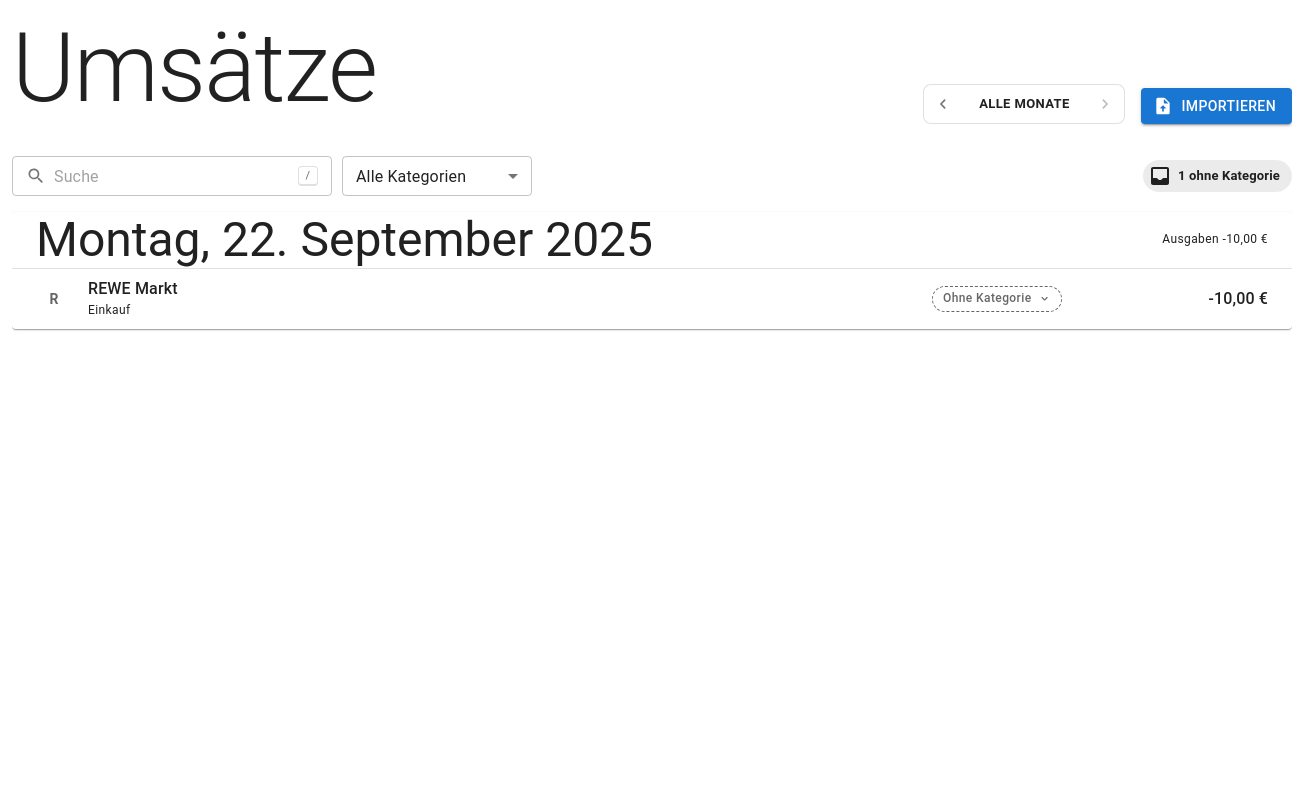
Test: TransactionsPage, „Immer so“ › says only that the rule was added when there is nothing left for it to sort
Check: the dropdown named "Kategorie filtern" is shown, box top-left (356, 166), bottom-right (466, 186)
Click the button with aria-label "Kategorie: Ohne Kategorie" at (997, 299), box top-left (932, 286), bottom-right (1062, 312)
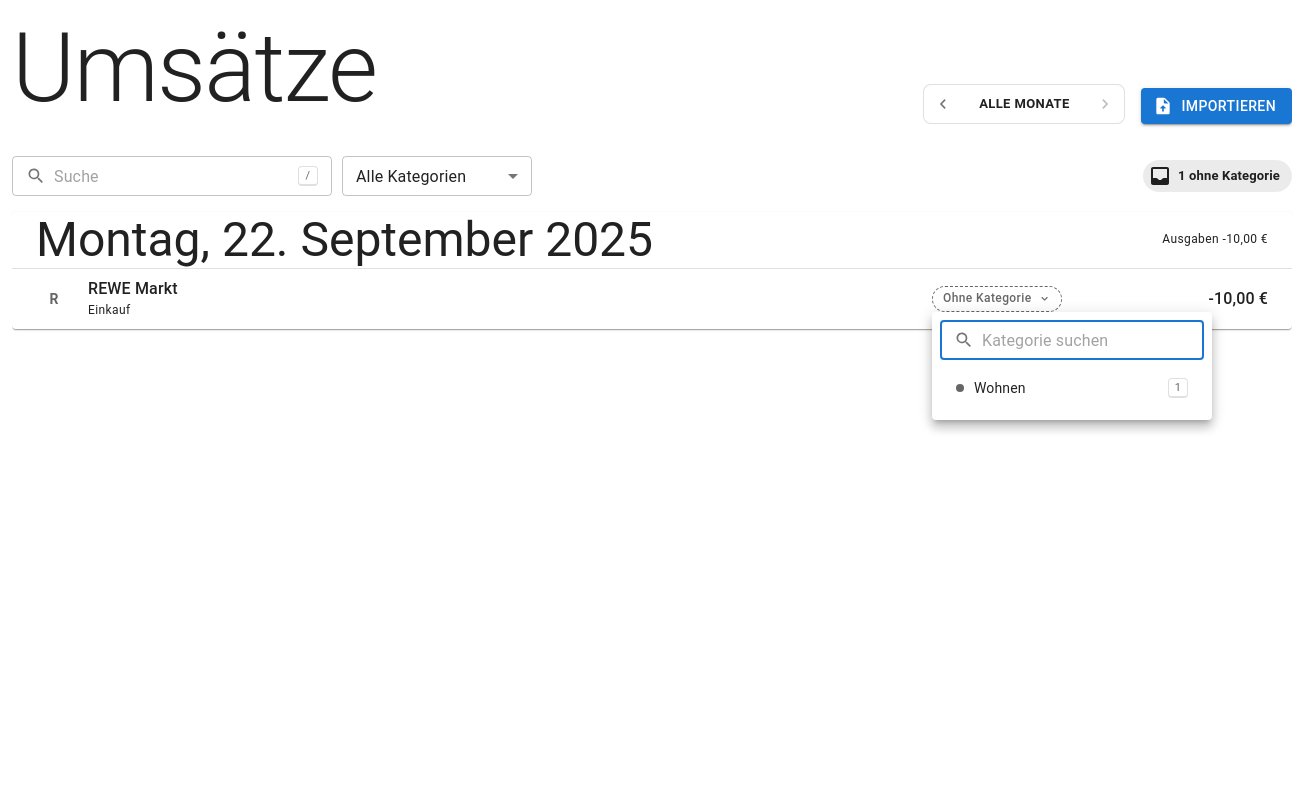
Click the menu item "Wohnen 1" at (1000, 388), box top-left (940, 372), bottom-right (1204, 404)
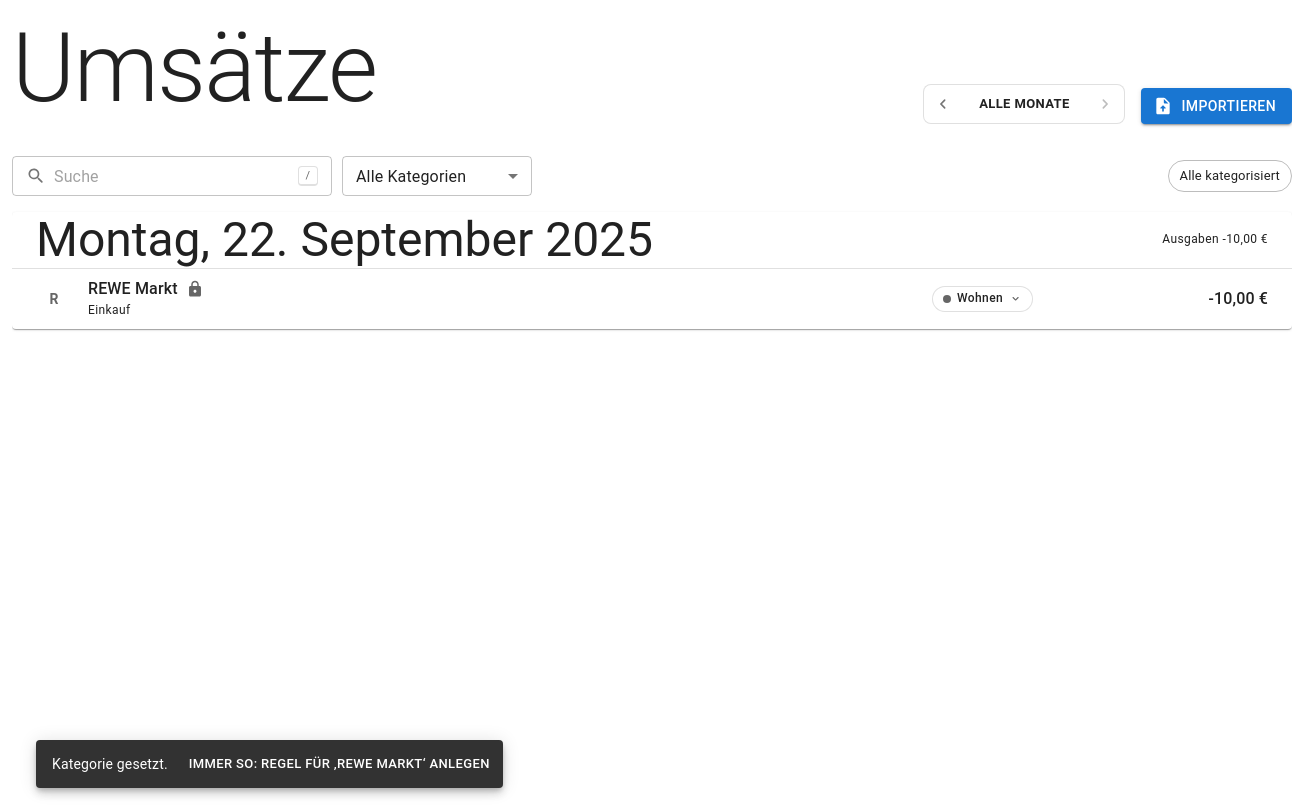
Click the button "Immer so: Regel für ‚REWE Markt‘ anlegen" at (339, 764), box top-left (184, 749), bottom-right (495, 779)
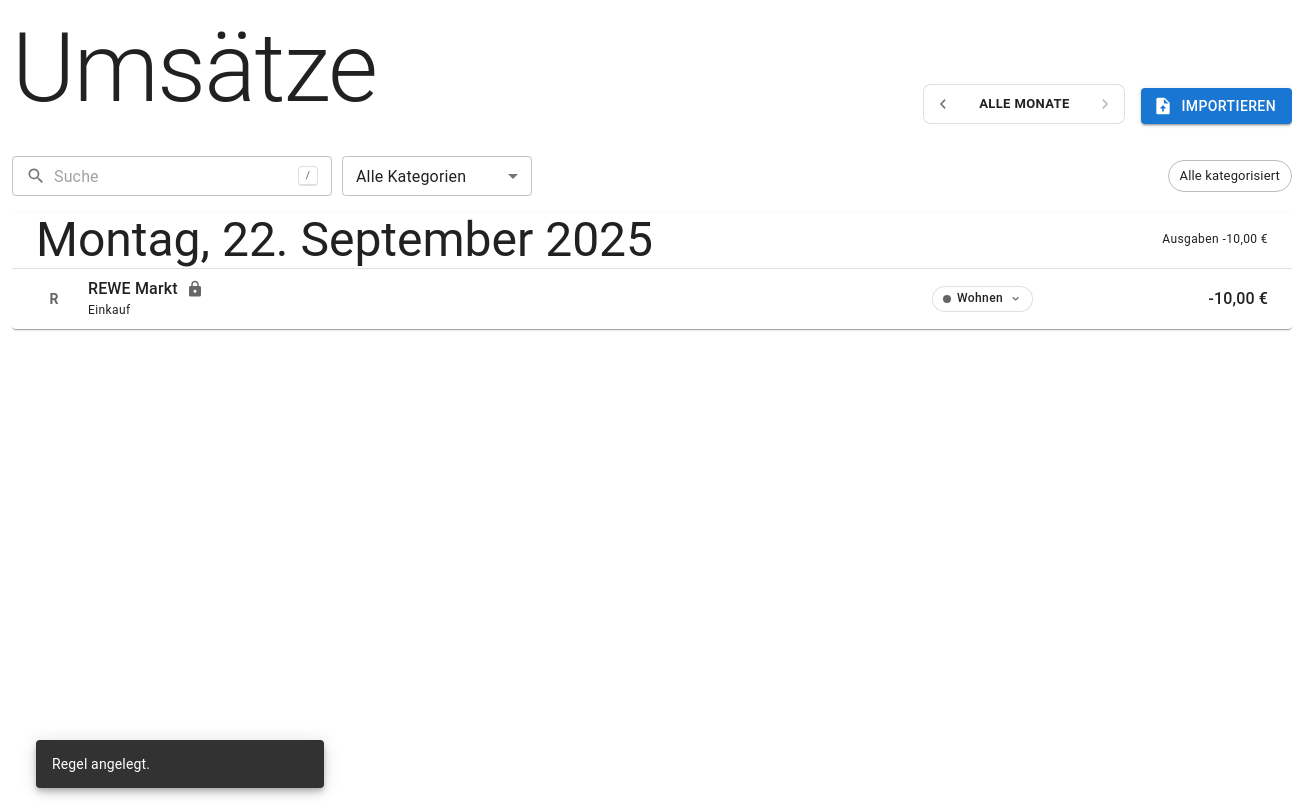
Check: the text "Regel angelegt." is shown, box top-left (52, 756), bottom-right (150, 772)
